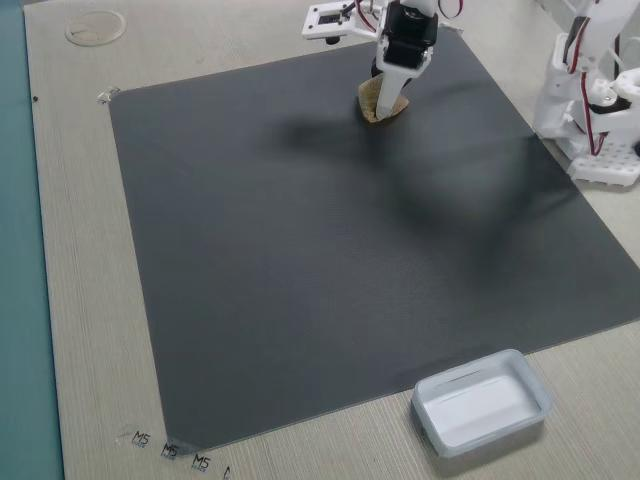gripper: (311, 3, 453, 109)
